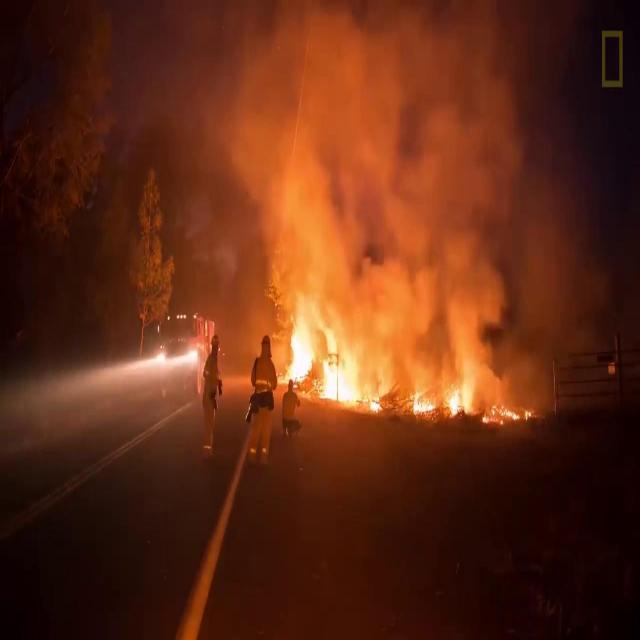Fire: (280, 308, 382, 414), (481, 398, 533, 431), (444, 379, 472, 417), (410, 391, 436, 416)
